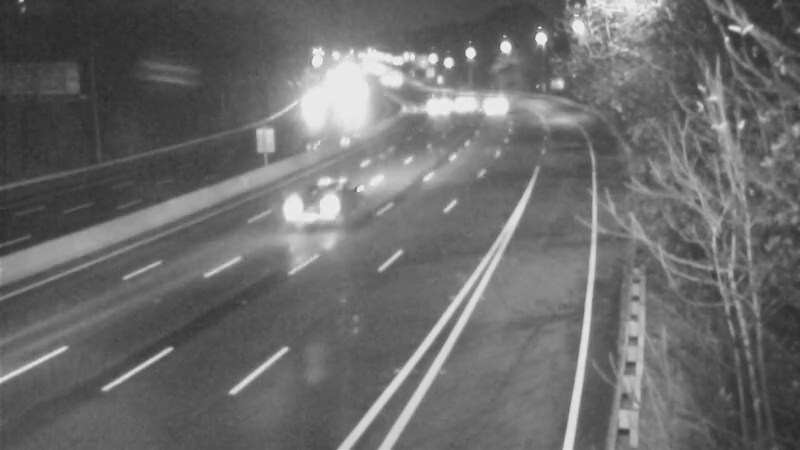vehicle: (275, 155, 355, 235), (476, 74, 526, 124), (443, 72, 493, 122), (410, 74, 460, 124), (290, 83, 340, 133)
